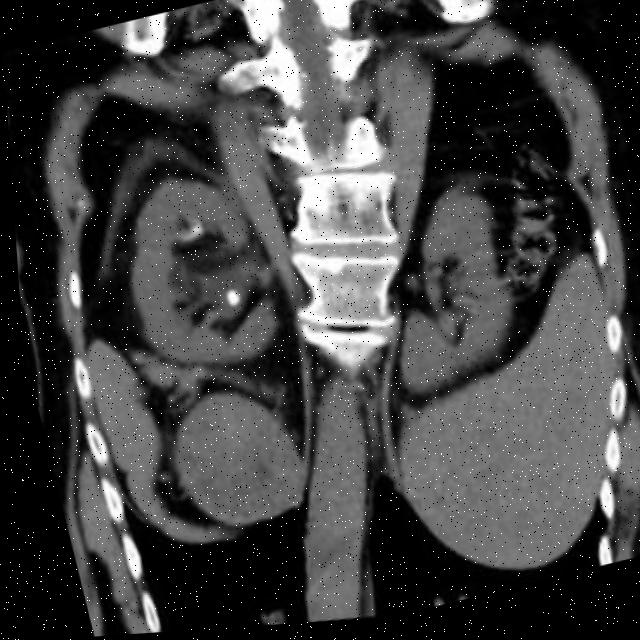Tas_Var: (163, 213, 209, 254), (216, 288, 240, 314)
